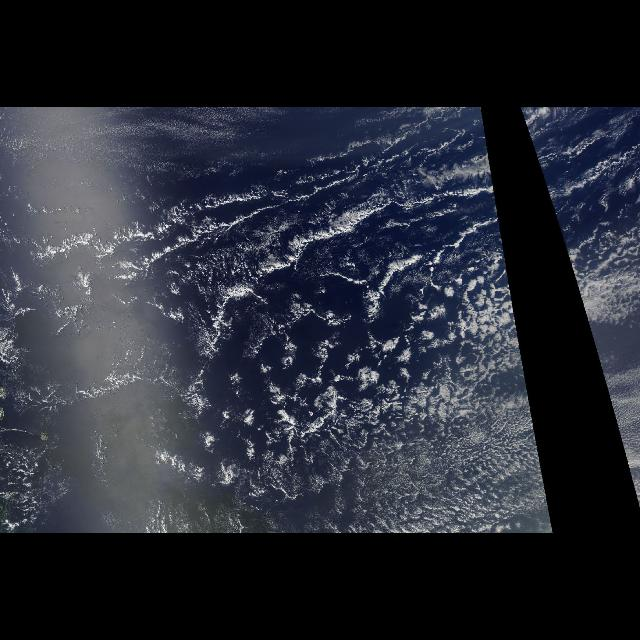Fish: (11, 185, 403, 342)
Flower: (168, 316, 516, 490)
Sugar: (2, 110, 306, 177)
